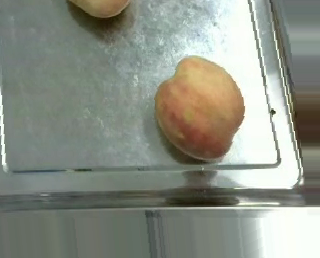Peach: (155, 55, 244, 160)
